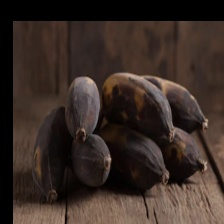banana: (19, 2, 218, 191)
